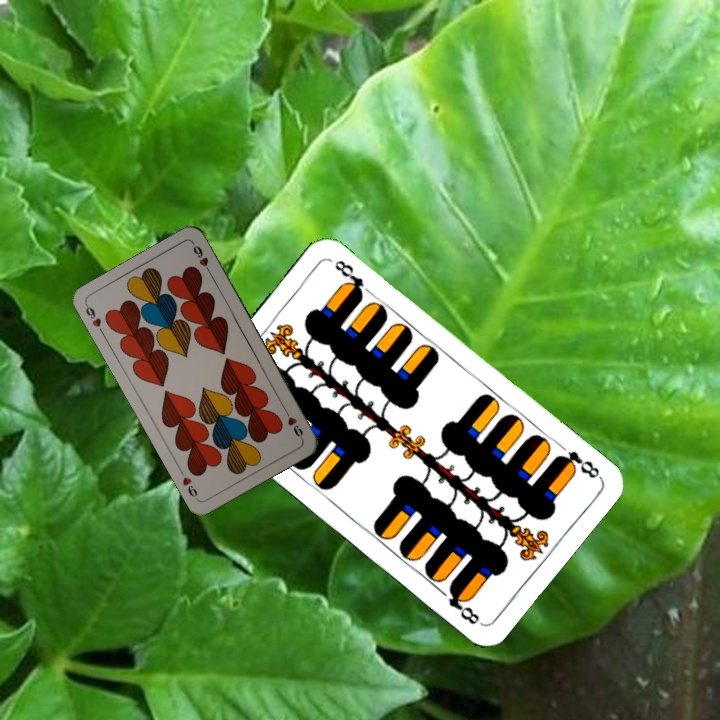E8: (552, 447, 603, 481)
H9: (280, 404, 306, 442), (81, 300, 107, 338)
